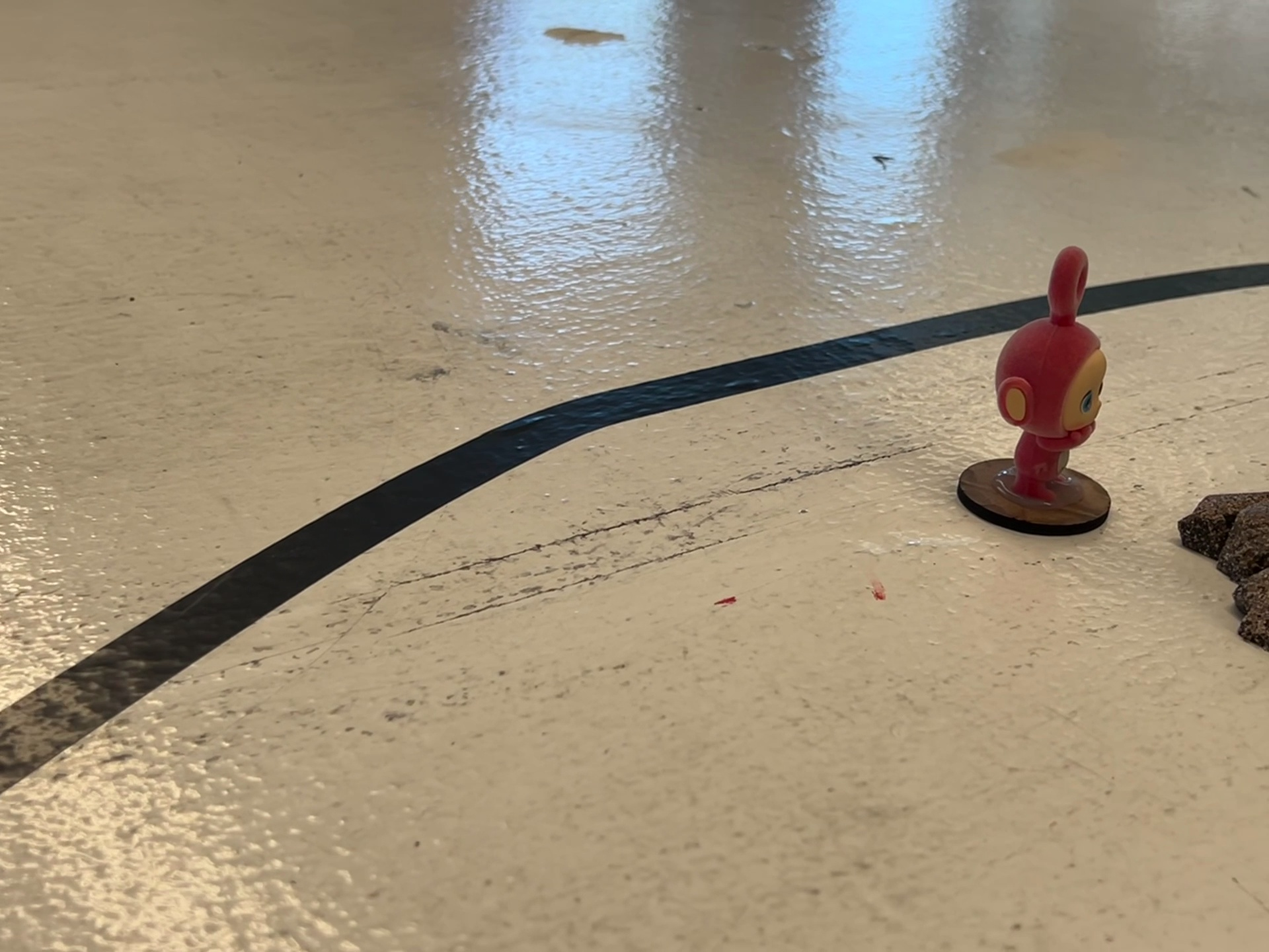teletubby: (994, 246, 1106, 503)
